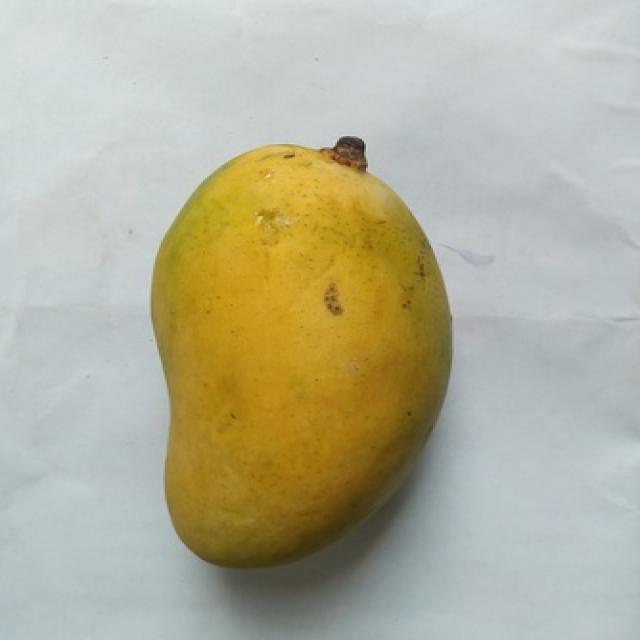Mango: (151, 146, 450, 565)
